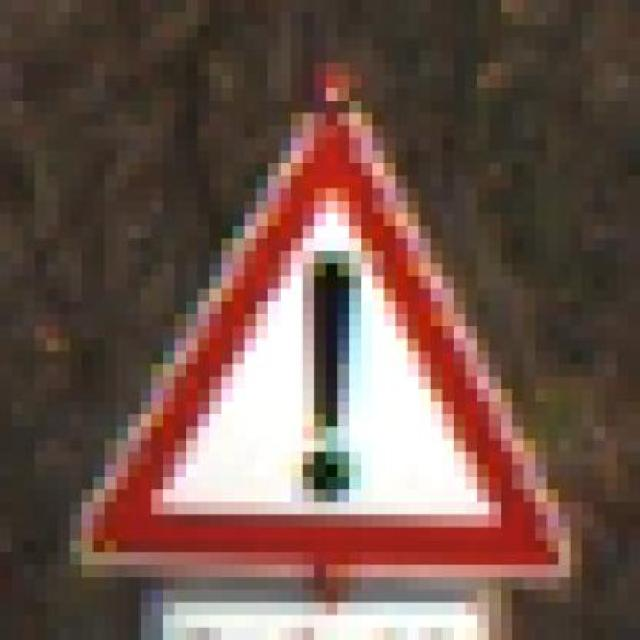Attention Please-: (70, 62, 582, 602)
